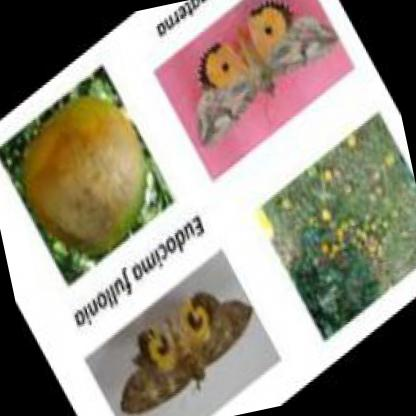fruit sucking moth: (196, 2, 338, 149), (116, 290, 255, 416)
